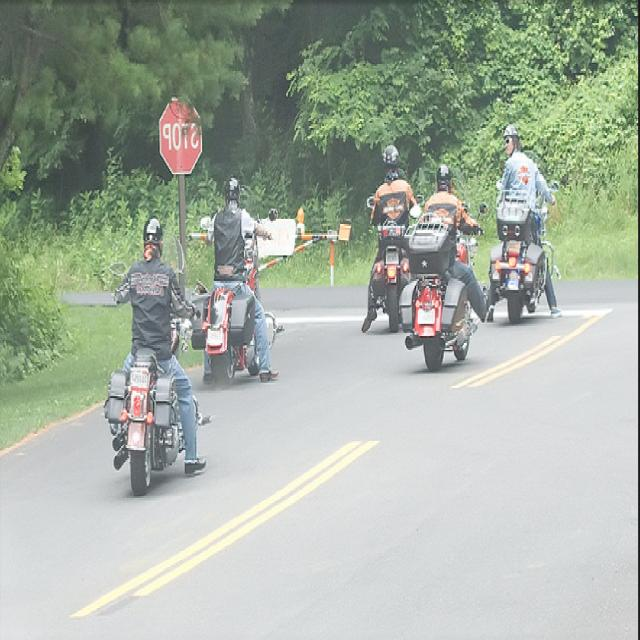STOP: (157, 84, 206, 184)
